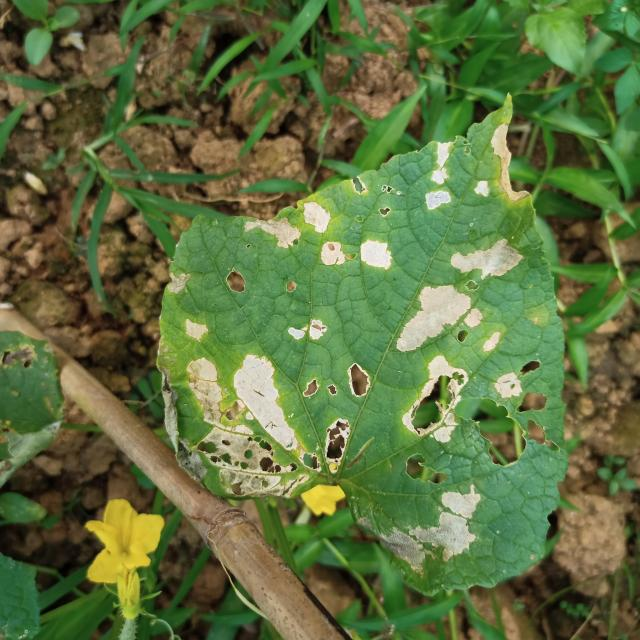disease_cucumber: (245, 125, 584, 356), (156, 262, 378, 508), (363, 342, 560, 578)
